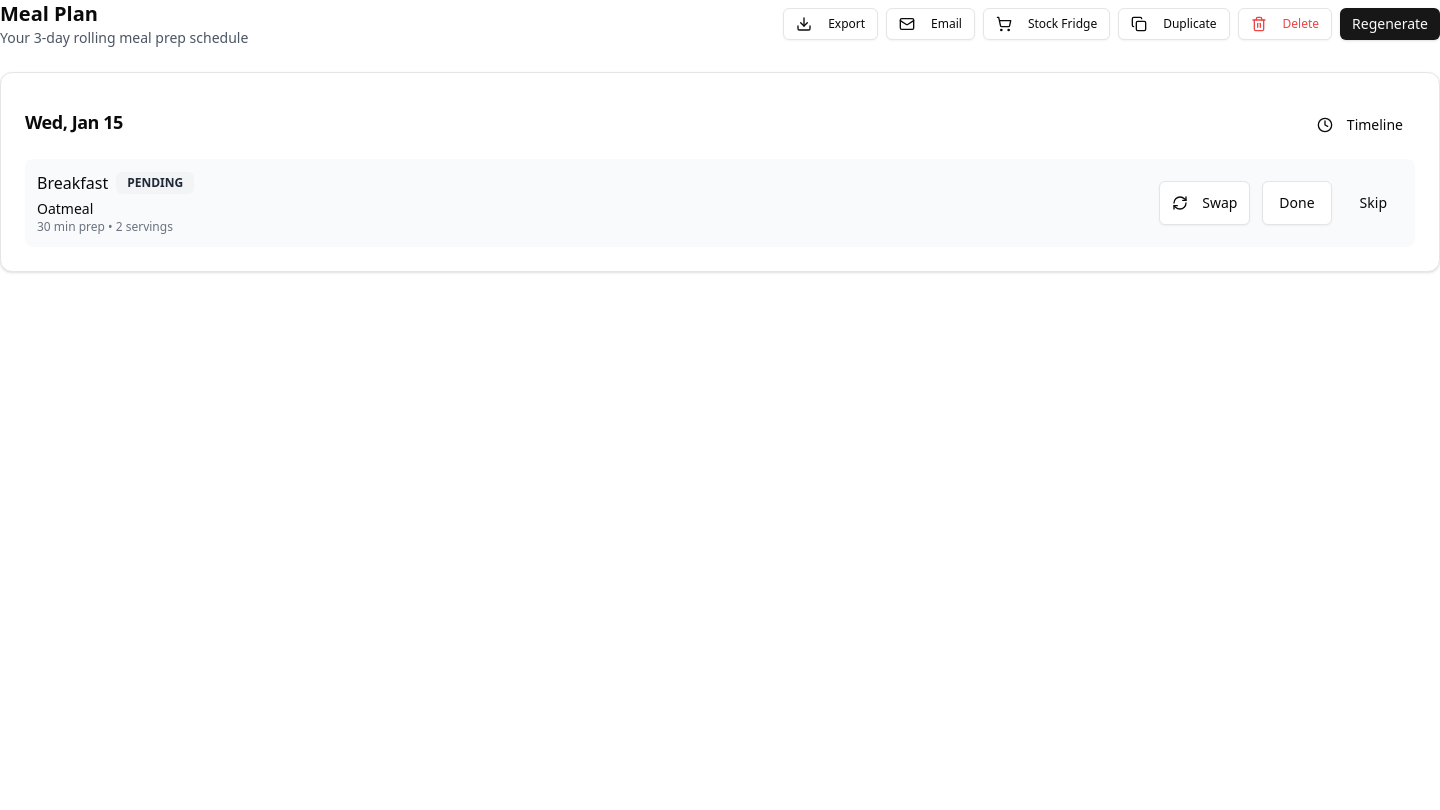
PlanView › delete plan action › should open confirmation dialog when Delete button is clicked
This screenshot has width=1440, height=810.
Click the button with aria-label "delete meal plan" at {"x": 1285, "y": 24}, box [1238, 8, 1332, 40]
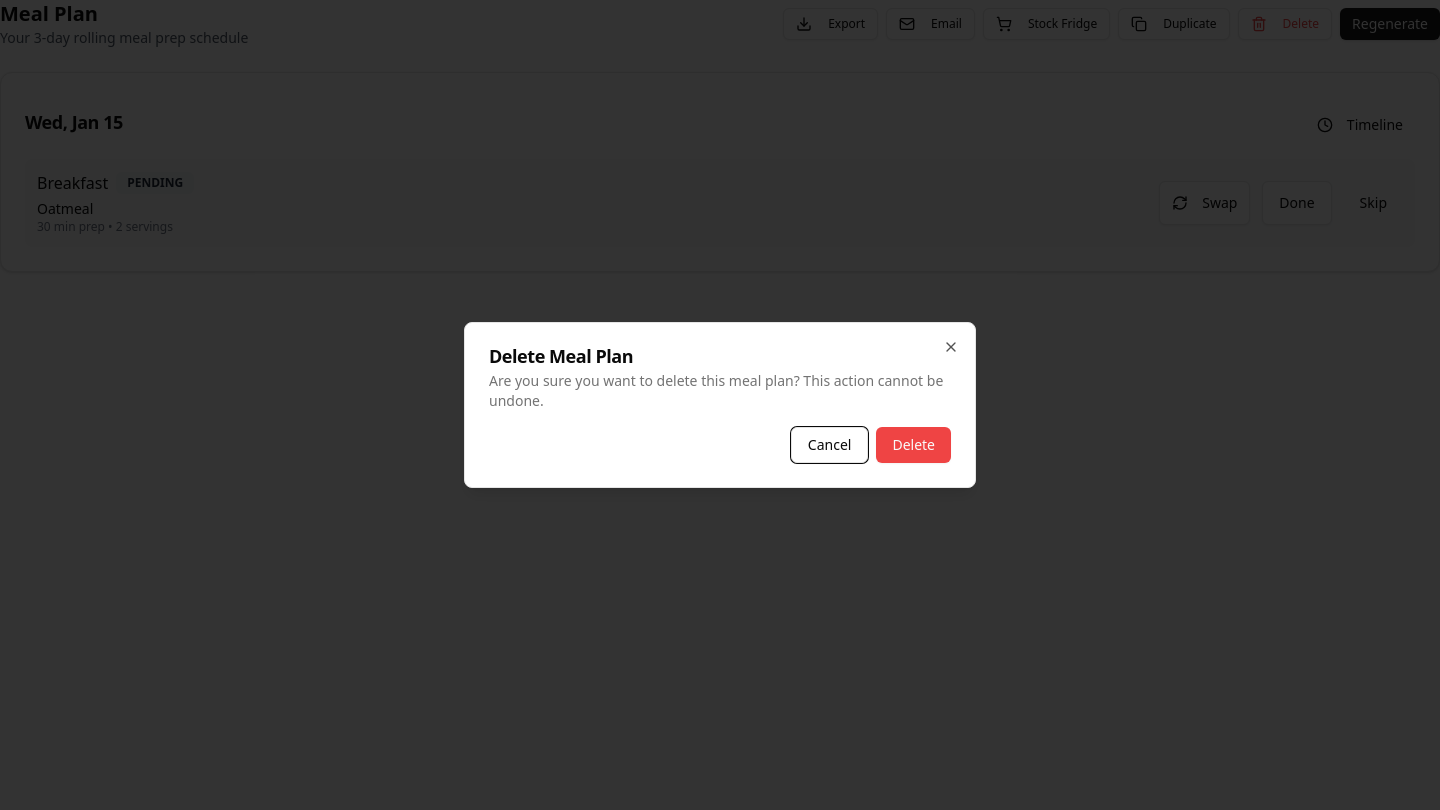
Expected: the dialog is shown, [464, 322, 976, 488]
Expected: the heading "Delete Meal Plan" is shown, [489, 344, 633, 368]
Expected: the text "Are you sure you want to delete this meal plan" is shown, [489, 371, 943, 410]
